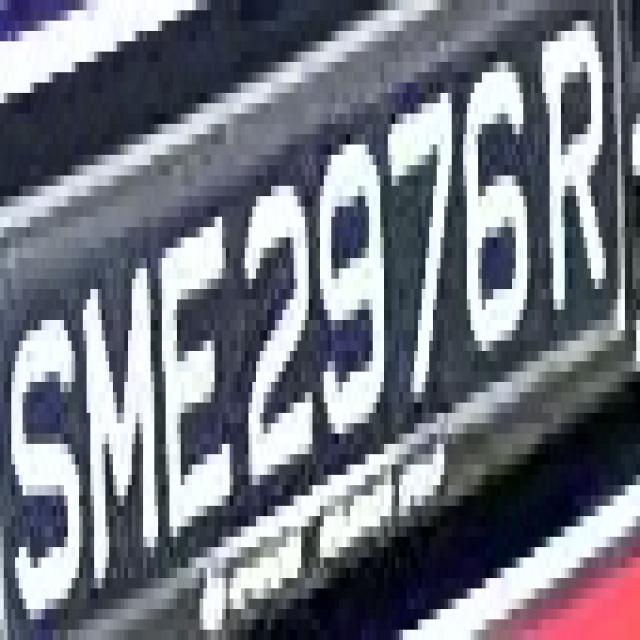2: (237, 165, 320, 527)
6: (452, 52, 538, 382)
7: (384, 62, 456, 464)
9: (309, 114, 403, 454)
E: (154, 217, 238, 578)
M: (71, 268, 177, 599)
R: (538, 0, 618, 351)
S: (15, 268, 87, 620)
